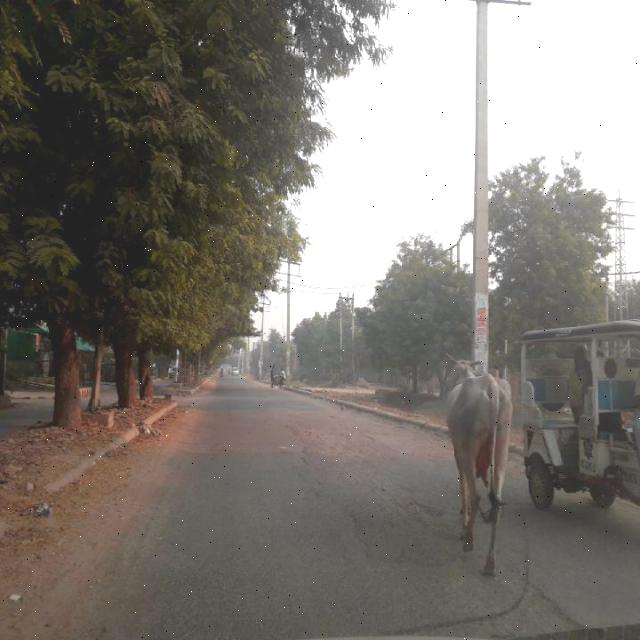D00: (515, 576, 614, 636)
